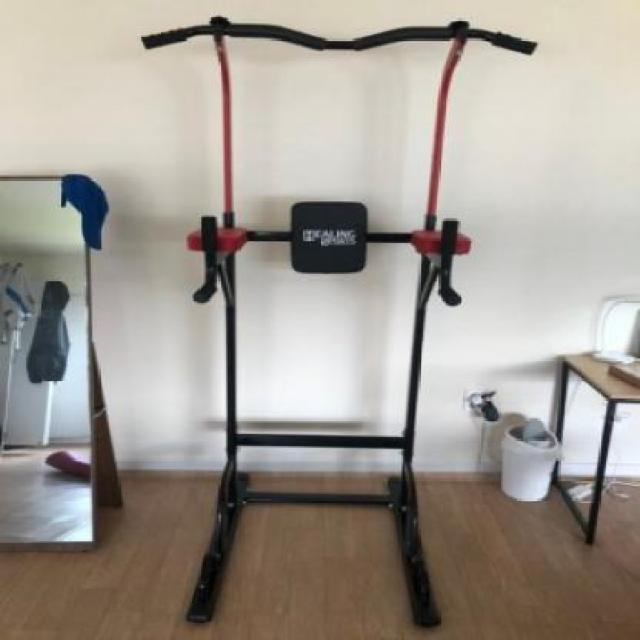chinning dipping: (145, 14, 537, 631)
